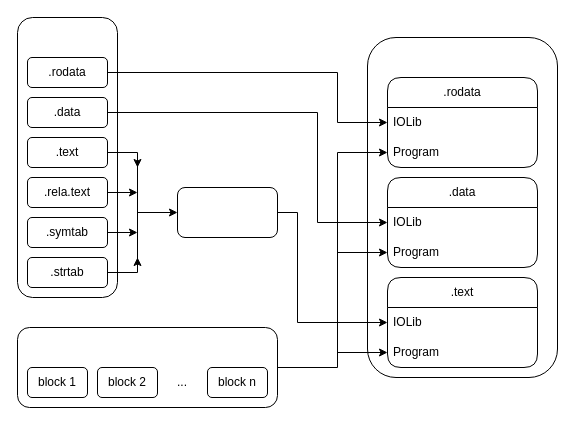
This 575x425 diagram has some shape labels left out. The shapes that lost their labels are listed below. From the top down, each one's box as (x1, y1, x2, y2) in pixels, then its label:
(16, 16, 118, 298): IOLib.o
(176, 186, 278, 238): Patched IOLib .text
(366, 36, 558, 378): ELF64
(16, 326, 278, 408): IR
